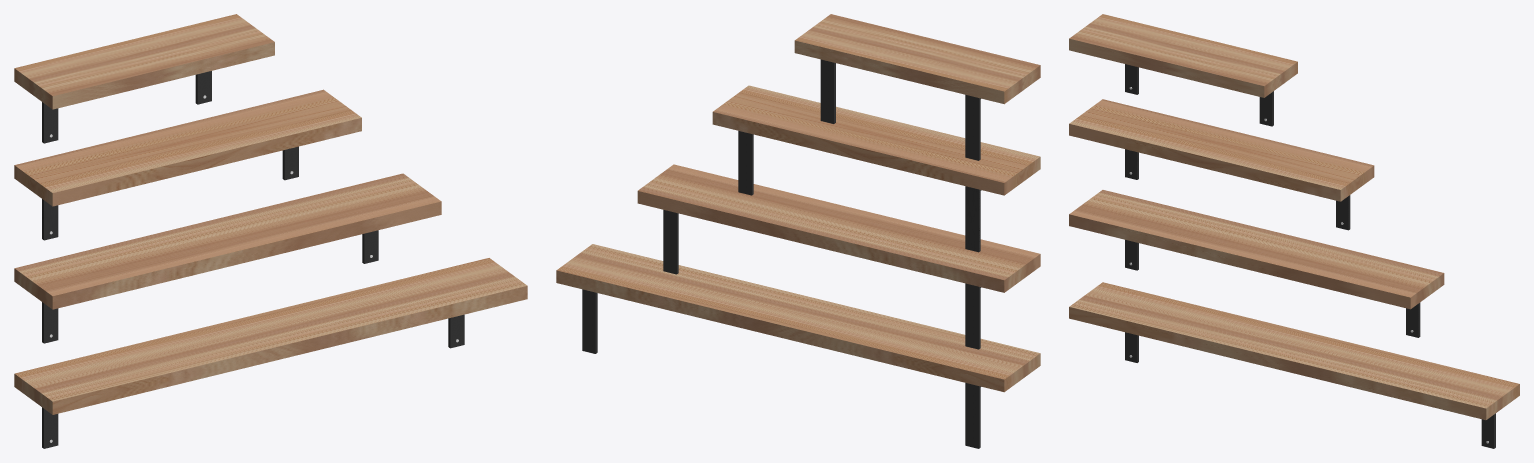
Rendered from shelf3.glb.
3 views of the same model, side by side, from view 1: azimuth 30°, elevation 25°; view 2: azimuth 150°, elevation 25°; view 3: azimuth 330°, elevation 25° (orthographic). The views are drawn at different scales.
Visible parts, largest first — view 1: Cube.001_1, Cube_0, Cube.002_2, Cube.003_3, Circle.007_4; view 2: Cube.001_1, Cube_0, Cube.002_2, Cube.003_3, Circle.007_4; view 3: Cube.001_1, Cube_0, Cube.002_2, Cube.003_3, Circle.007_4.
Boxes of the visible parts, x1=… form: Cube.001_1: x1=14, y1=258, x2=527, y2=414; Cube_0: x1=14, y1=173, x2=441, y2=309; Cube.002_2: x1=14, y1=89, x2=361, y2=206; Cube.003_3: x1=14, y1=14, x2=274, y2=109; Circle.007_4: x1=42, y1=71, x2=464, y2=448; Cube.001_1: x1=556, y1=244, x2=1040, y2=392; Cube_0: x1=637, y1=164, x2=1040, y2=292; Cube.002_2: x1=712, y1=85, x2=1040, y2=195; Cube.003_3: x1=794, y1=14, x2=1040, y2=104; Circle.007_4: x1=582, y1=59, x2=981, y2=448; Cube.001_1: x1=1069, y1=282, x2=1519, y2=420; Cube_0: x1=1069, y1=190, x2=1444, y2=309; Cube.002_2: x1=1069, y1=99, x2=1374, y2=201; Cube.003_3: x1=1069, y1=14, x2=1297, y2=97; Circle.007_4: x1=1125, y1=64, x2=1495, y2=448.
Bounding box in the file's own units: 14.31 × 11.11 × 2.
Materials: 4 (3 with a texture image).
